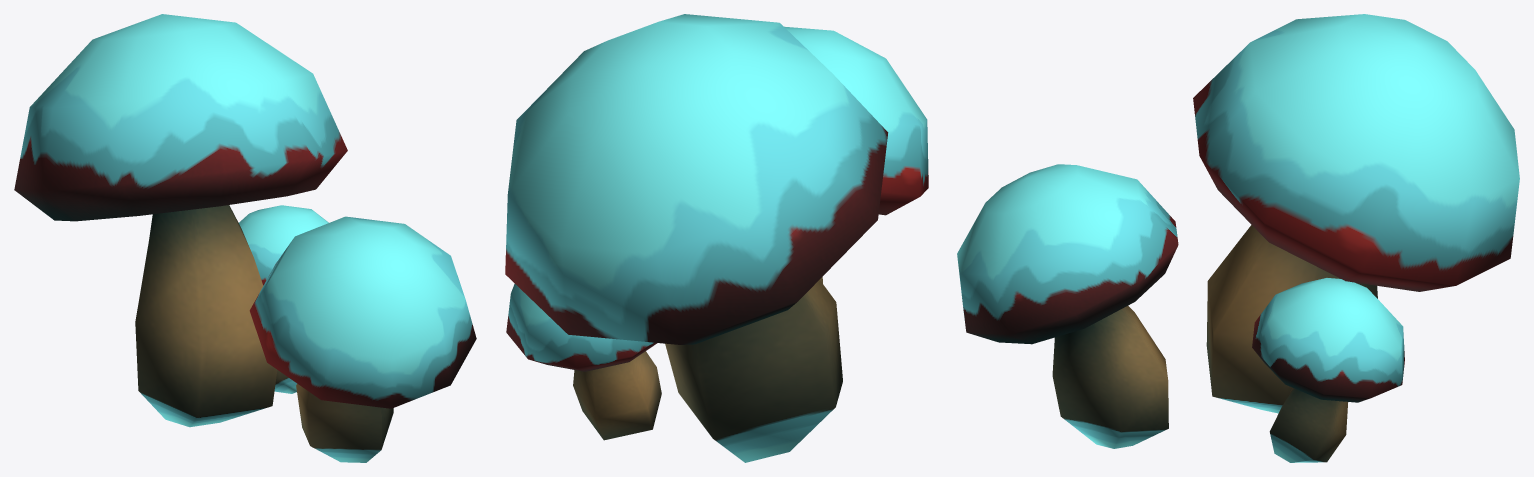
The model's file is Mushroom1.FBX.
3 views of the same model, side by side, from view 1: azimuth 30°, elevation 25°; view 2: azimuth 150°, elevation 25°; view 3: azimuth 270°, elevation 25° (orthographic). The views are drawn at different scales.
Visible parts, largest first — view 1: Mushroom1; view 2: Mushroom1; view 3: Mushroom1.
Part boxes in pixels (<box>): Mushroom1: <box>14,14,476,462</box>; Mushroom1: <box>505,14,928,462</box>; Mushroom1: <box>957,14,1519,462</box>.
Bounding box in the file's own units: 22.1 × 25.61 × 33.53.
1 material, 1 textured.
